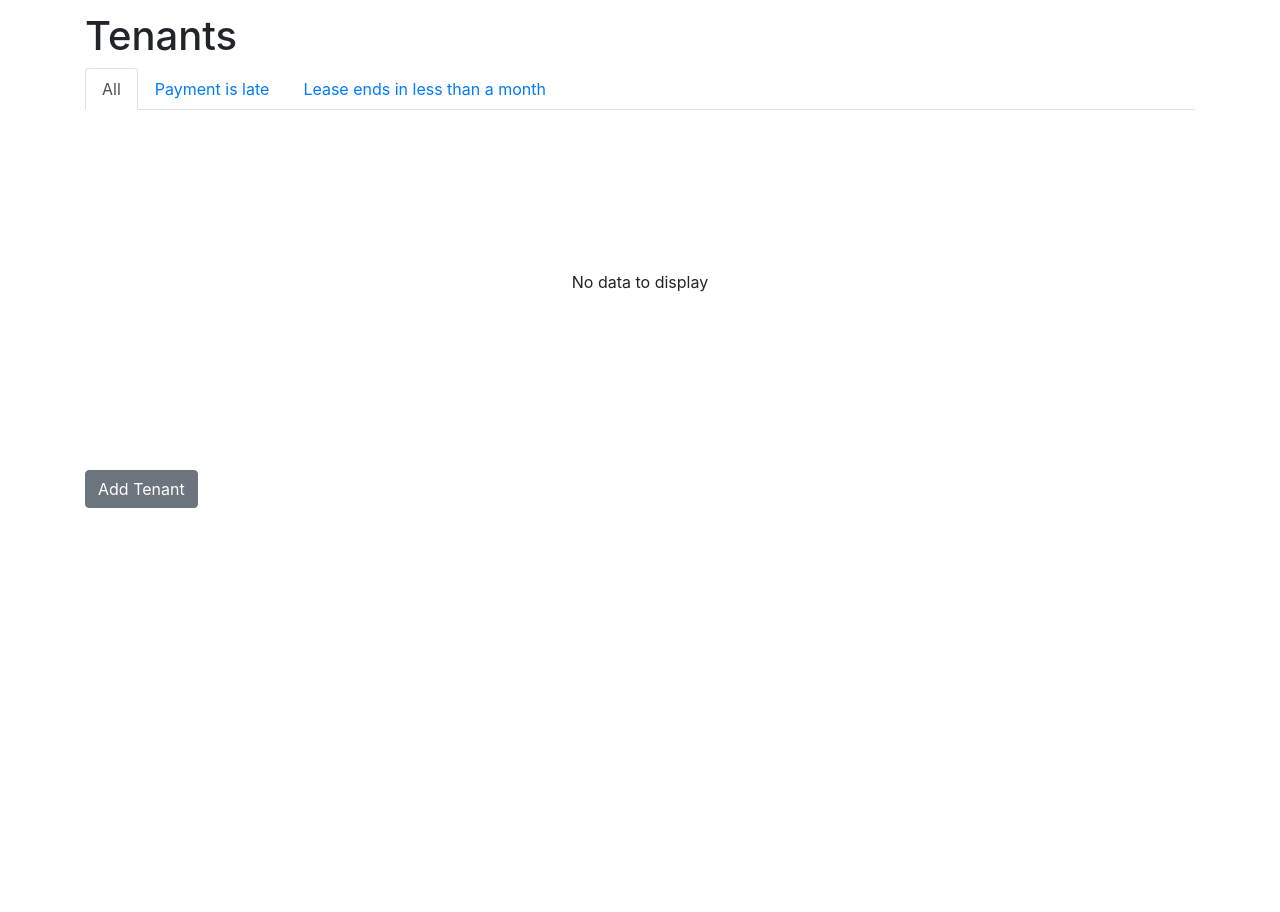
<Form /> › Should open form, type info of new tenant and valid save button
Click the button "Add Tenant" at (141, 489), box [85, 470, 198, 508]
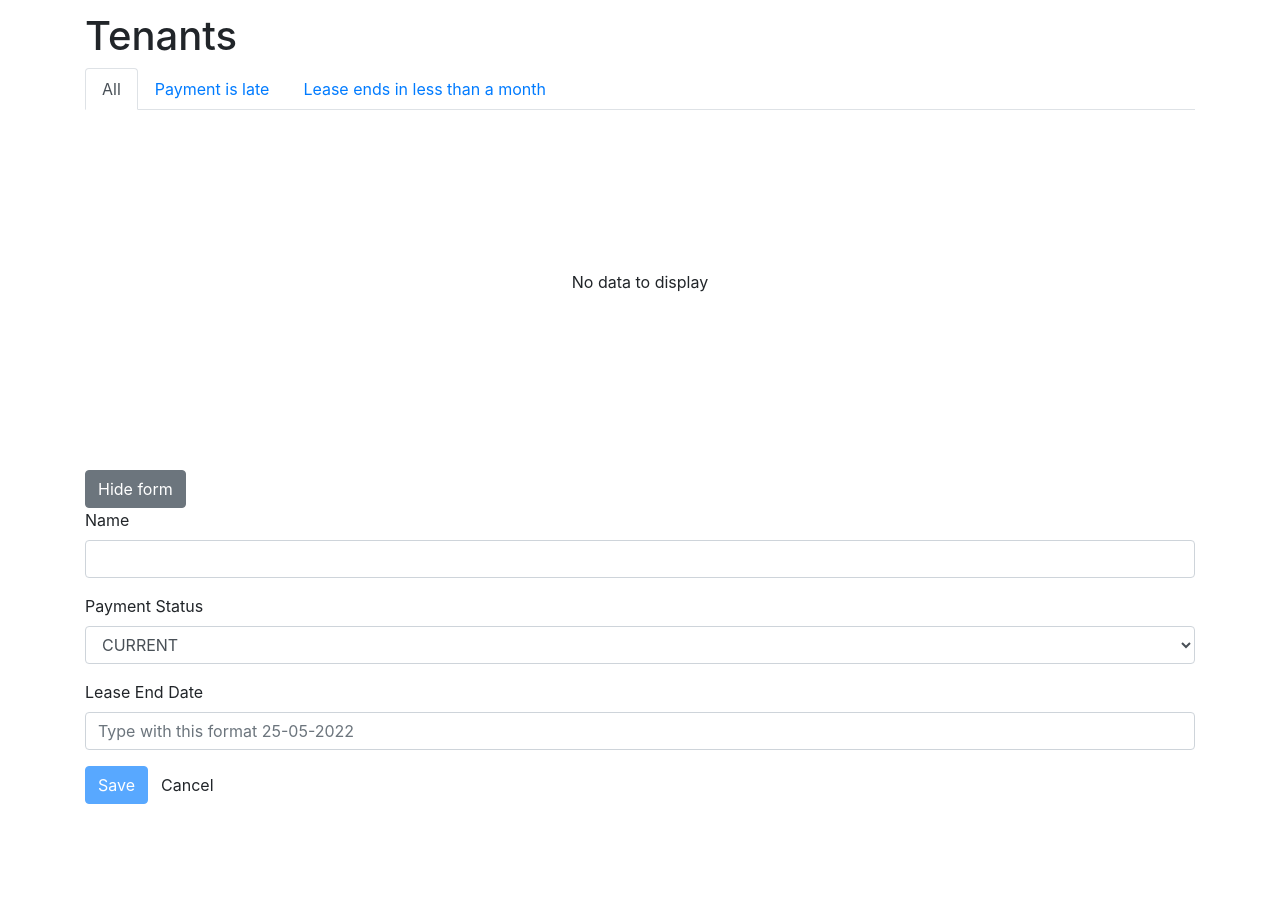
Type "Roger" into the field labelled "Name" at (640, 559), box [85, 540, 1195, 578]
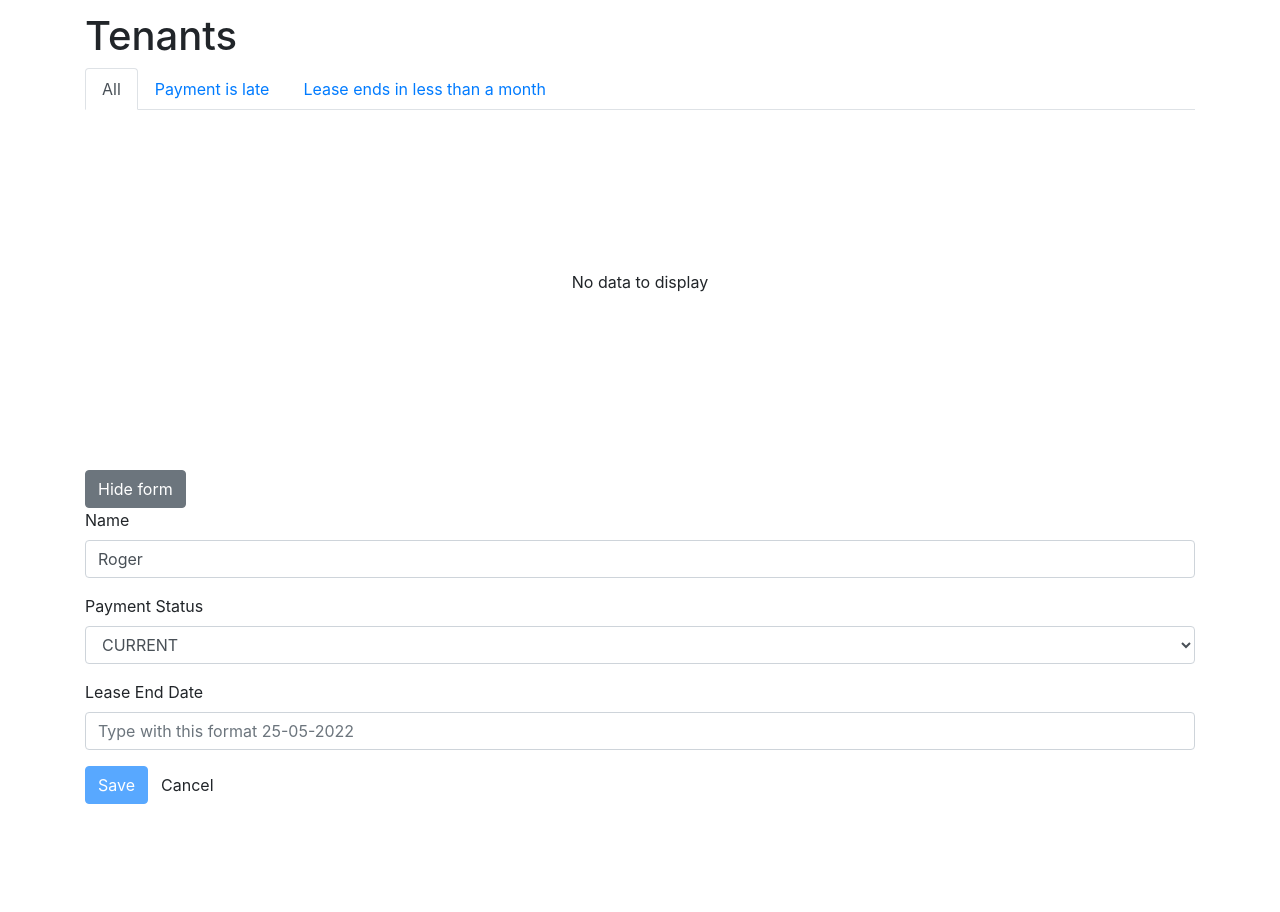
Select "CURRENT" in the dropdown labelled "Payment Status" at (640, 645), box [85, 626, 1195, 664]
Type "25-05-2022" into the field labelled "Lease End Date" at (640, 731), box [85, 712, 1195, 750]
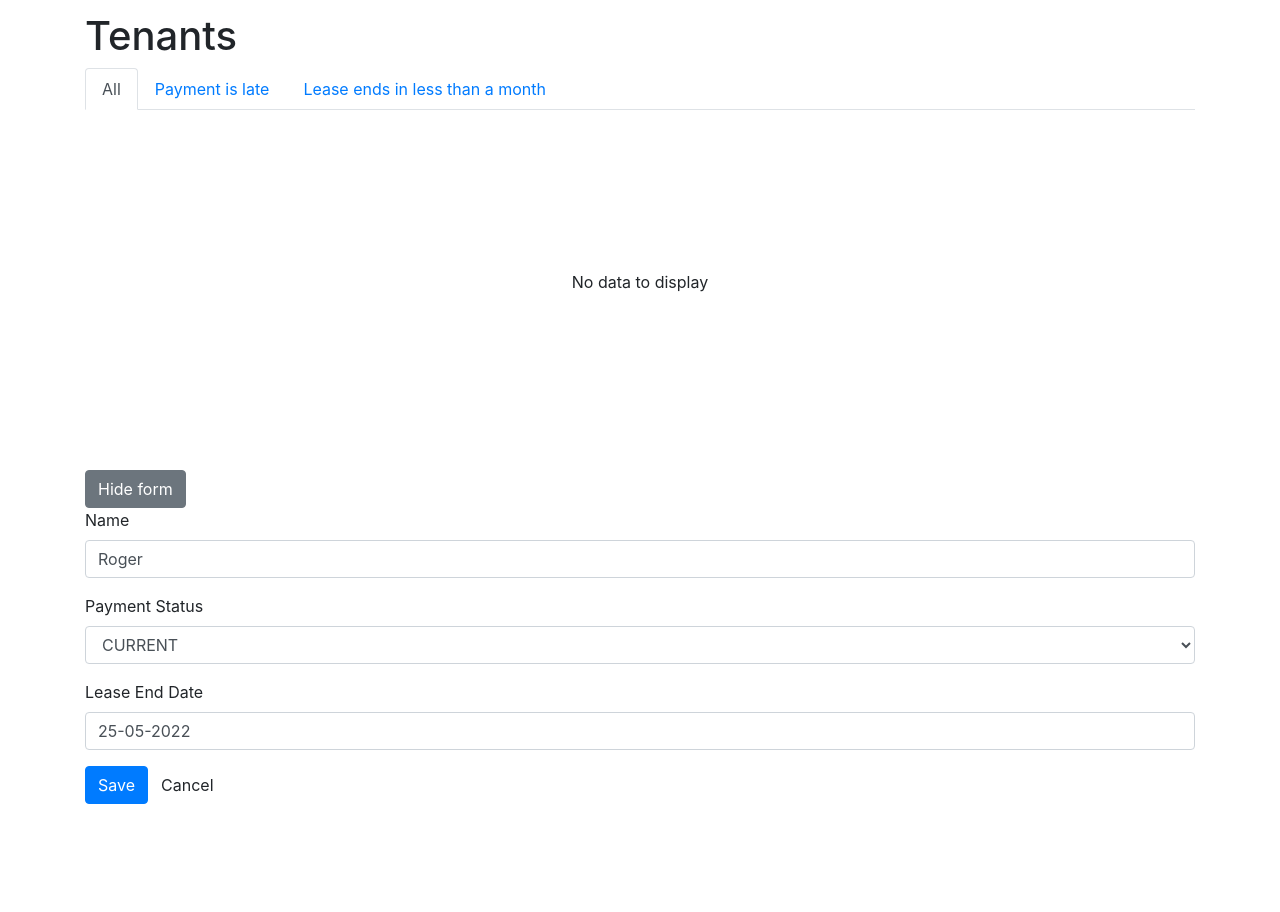
Expected: the button "Save" is enabled, [85, 766, 148, 804]
Replace the text in the field labelled "Lease End Date" with "dasd" at (640, 731), box [85, 712, 1195, 750]
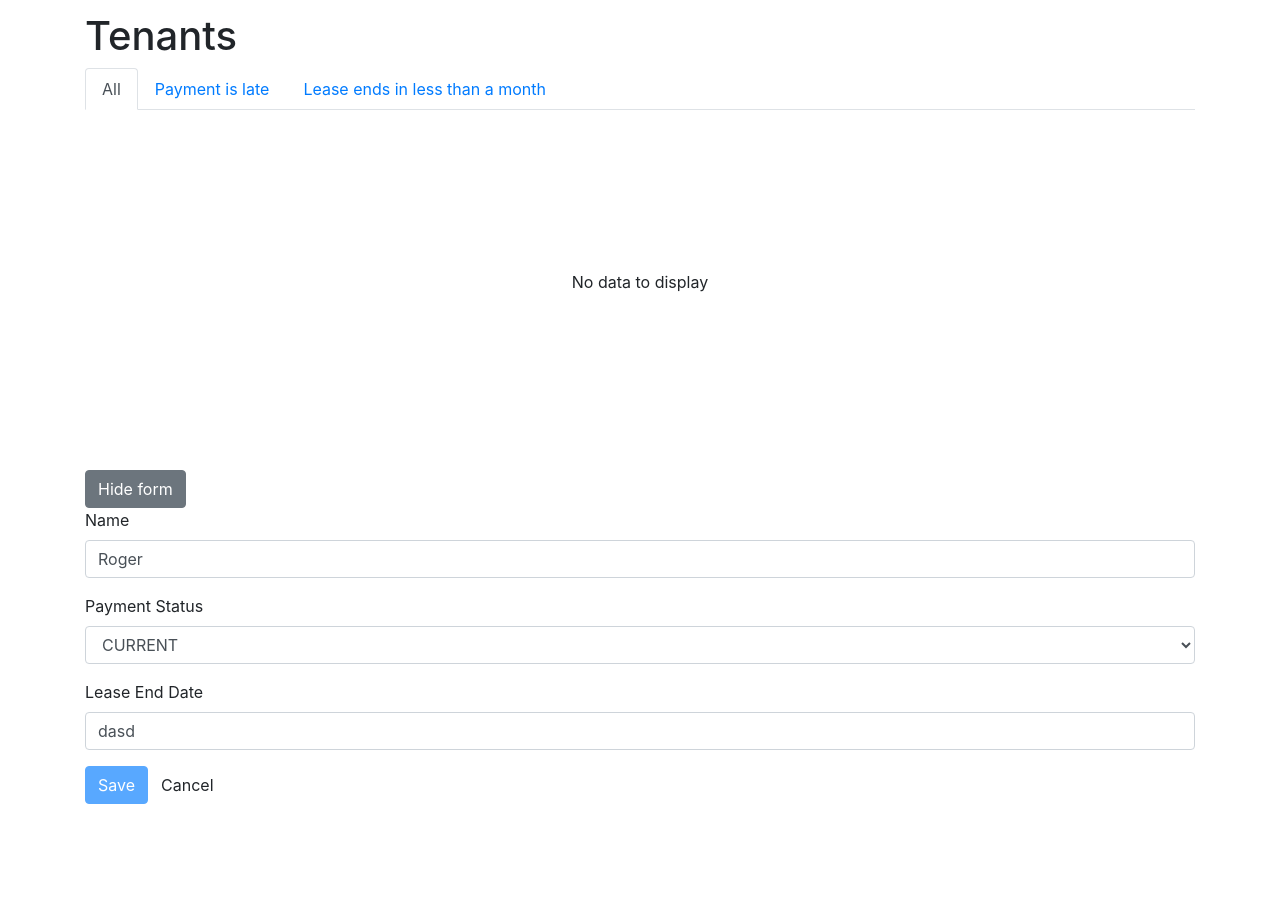
Expected: the button "Save" is disabled, [85, 766, 148, 804]
